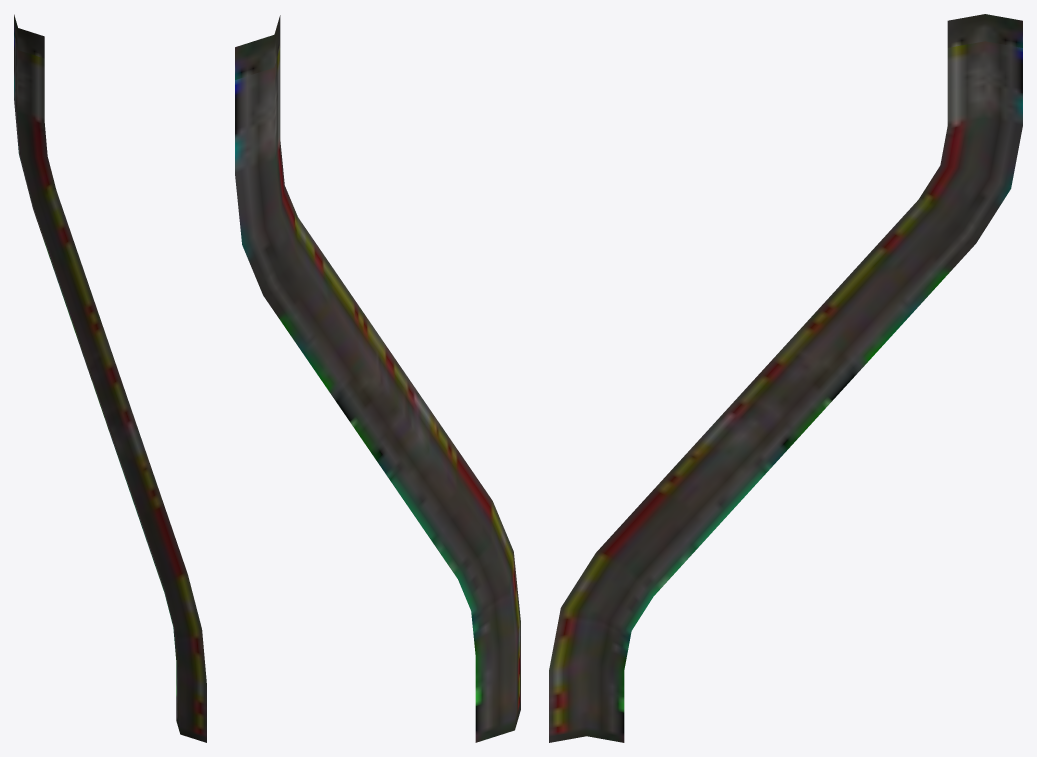
The model's file is wiring_s_l_50.glb.
The picture shows the model from 3 angles, left to right: view 1: azimuth 30°, elevation 25°; view 2: azimuth 150°, elevation 25°; view 3: azimuth 270°, elevation 25°; orthographic projection. The views are drawn at different scales.
Visible parts, largest first — view 1: wiring_S_L_50; view 2: wiring_S_L_50; view 3: wiring_S_L_50.
Boxes of the visible parts, <box> form: wiring_S_L_50: <box>14,14,206,742</box>; wiring_S_L_50: <box>235,15,520,742</box>; wiring_S_L_50: <box>549,14,1022,742</box>.
Bounding box in the file's own units: 0.01 × 0.5 × 0.2973.
Materials: 1 (1 with a texture image).
